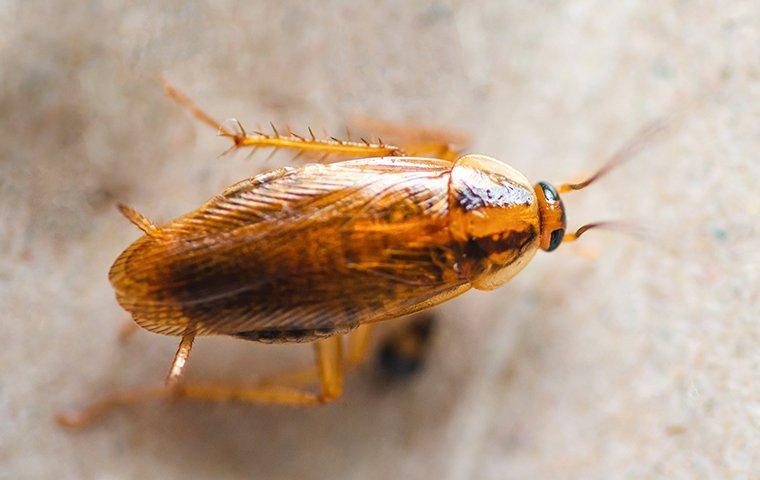cockroach: (96, 137, 582, 349)
